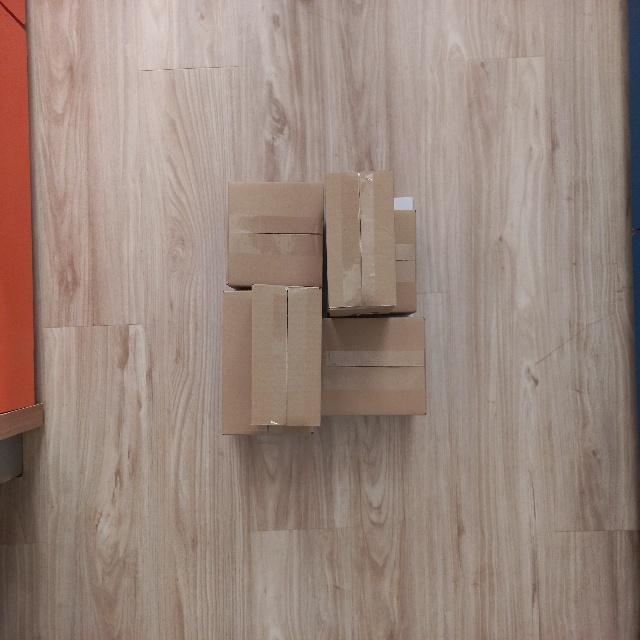box: (246, 284, 325, 433), (320, 314, 431, 419), (224, 179, 327, 288), (323, 169, 397, 315)
